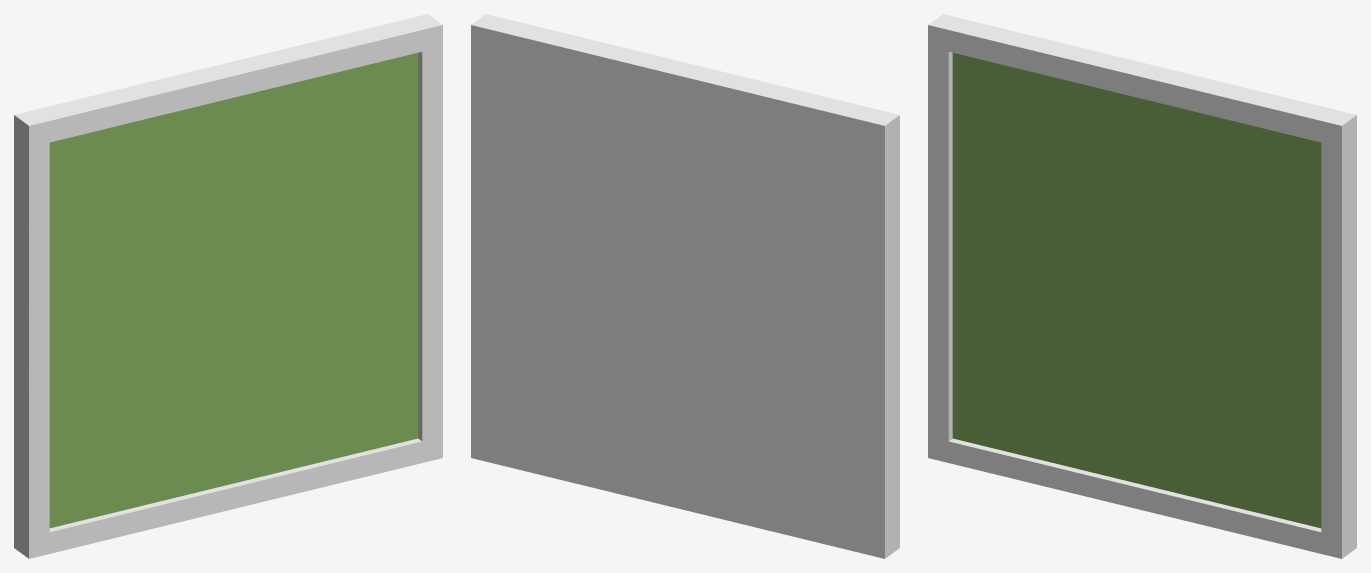
Rendered from Painting_09.fbx.
3 views of the same model, side by side, from view 1: azimuth 30°, elevation 25°; view 2: azimuth 150°, elevation 25°; view 3: azimuth 330°, elevation 25° (orthographic).
Parts seen in each view (by area): view 1: Painting_09; view 2: Painting_09; view 3: Painting_09.
Part boxes in pixels (left/top/right/bottom): Painting_09: left=14, top=14, right=442, bottom=558; Painting_09: left=471, top=14, right=899, bottom=558; Painting_09: left=928, top=14, right=1356, bottom=558.
Size of the model in its own units: 50 by 50 by 3.14.
